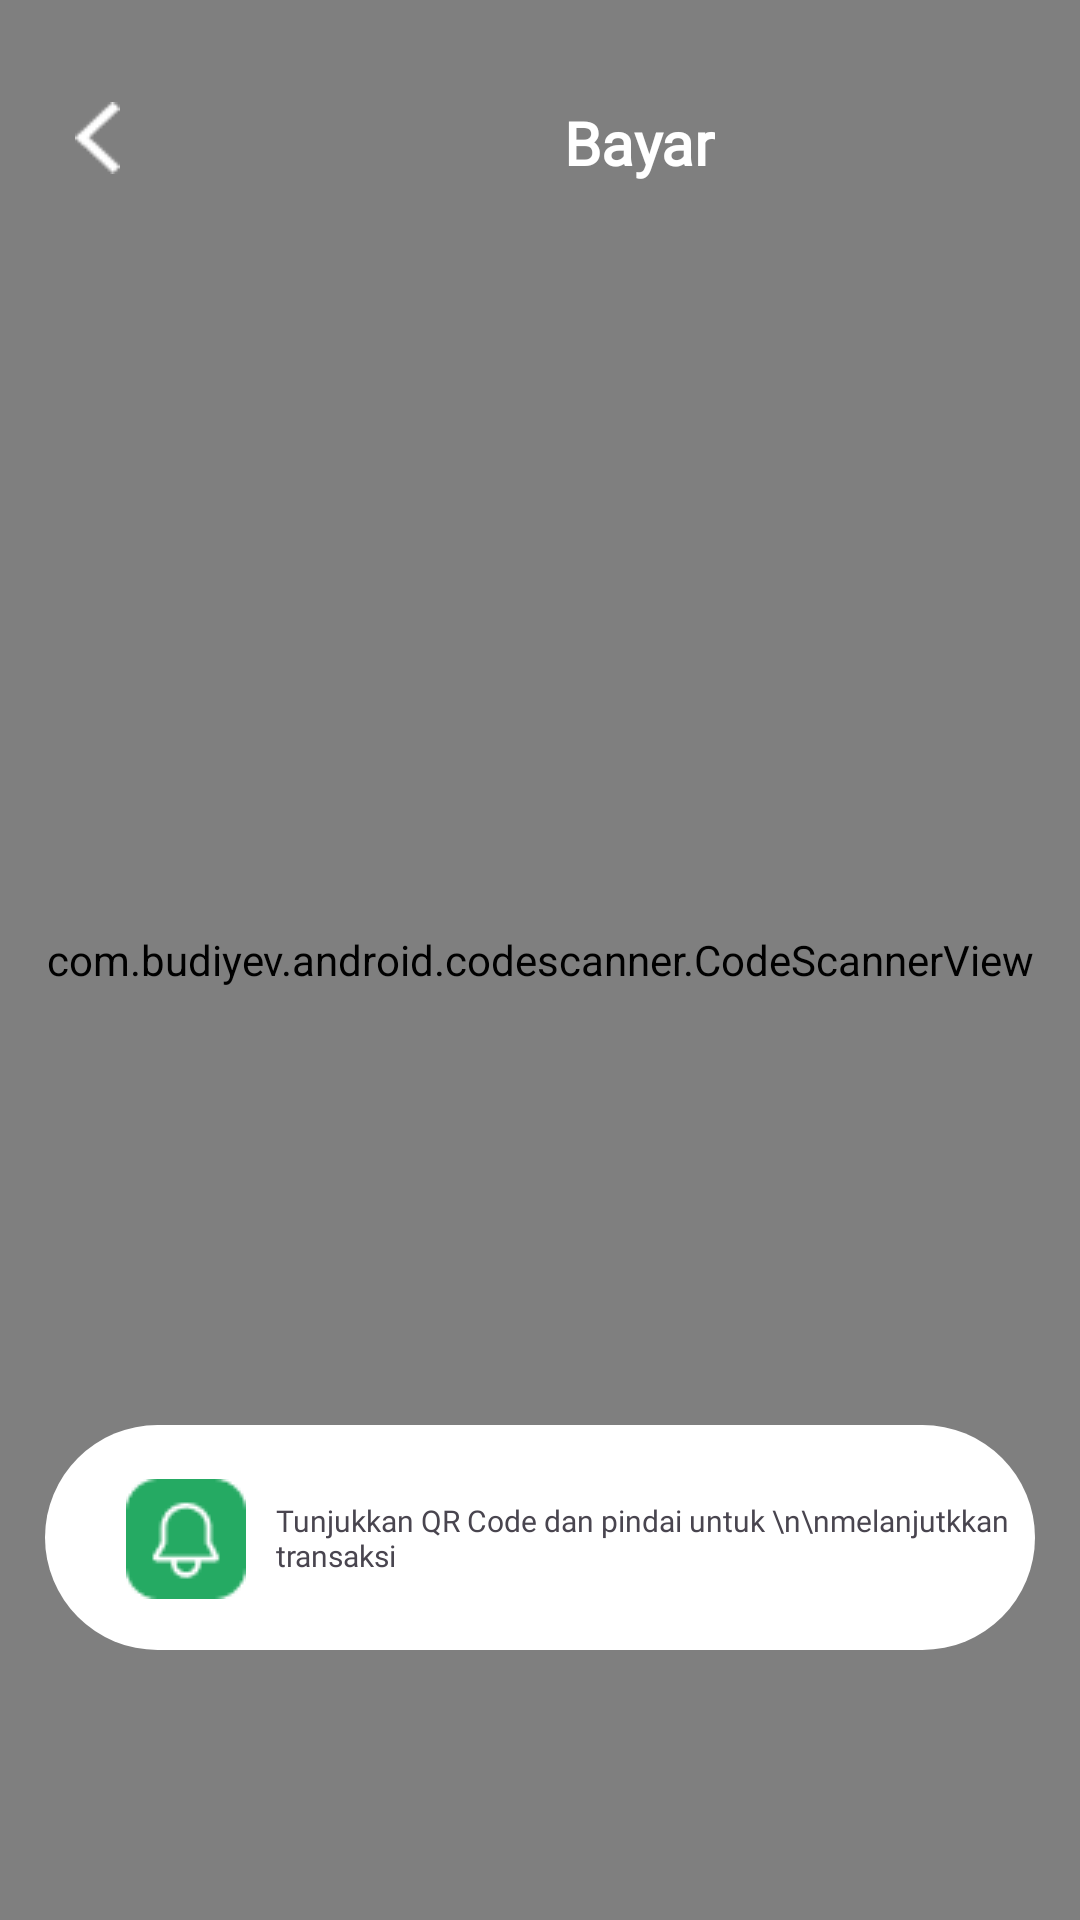

Where icons sit on this 1080 x 1920 app screen, as [x1, y1, x2, y2]:
iconback: [75, 102, 120, 174]
notif: [126, 1479, 246, 1599]
